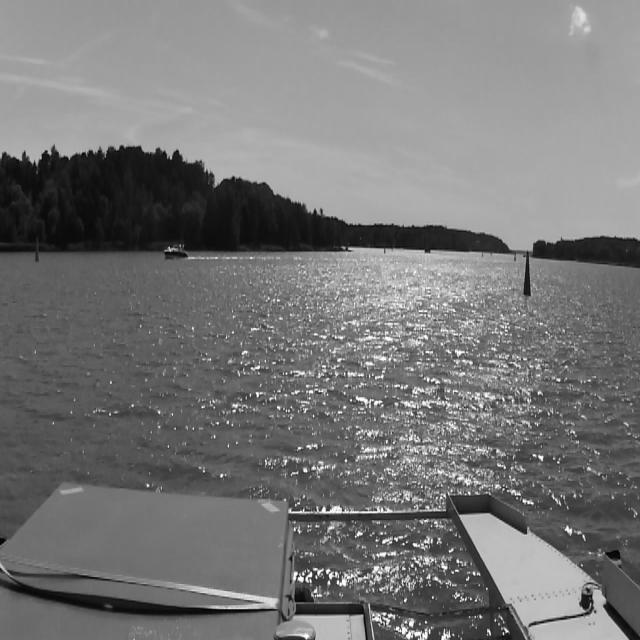buoy: (523, 249, 531, 294), (512, 244, 518, 264), (34, 235, 38, 261), (382, 237, 387, 257)
ship: (163, 246, 189, 260), (424, 244, 431, 254)
